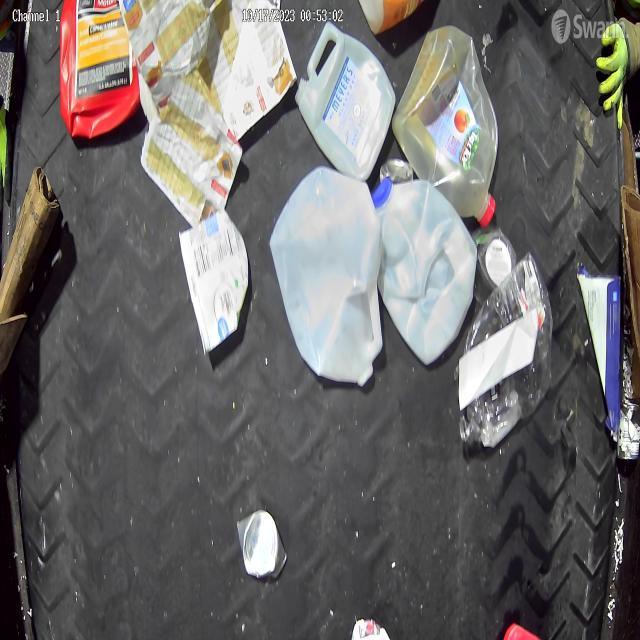can: (236, 510, 287, 579), (618, 403, 640, 460)
milk_jug: (270, 166, 382, 389), (379, 173, 478, 362), (296, 16, 396, 180)
non_white_jug: (391, 24, 499, 228), (60, 2, 138, 139)
